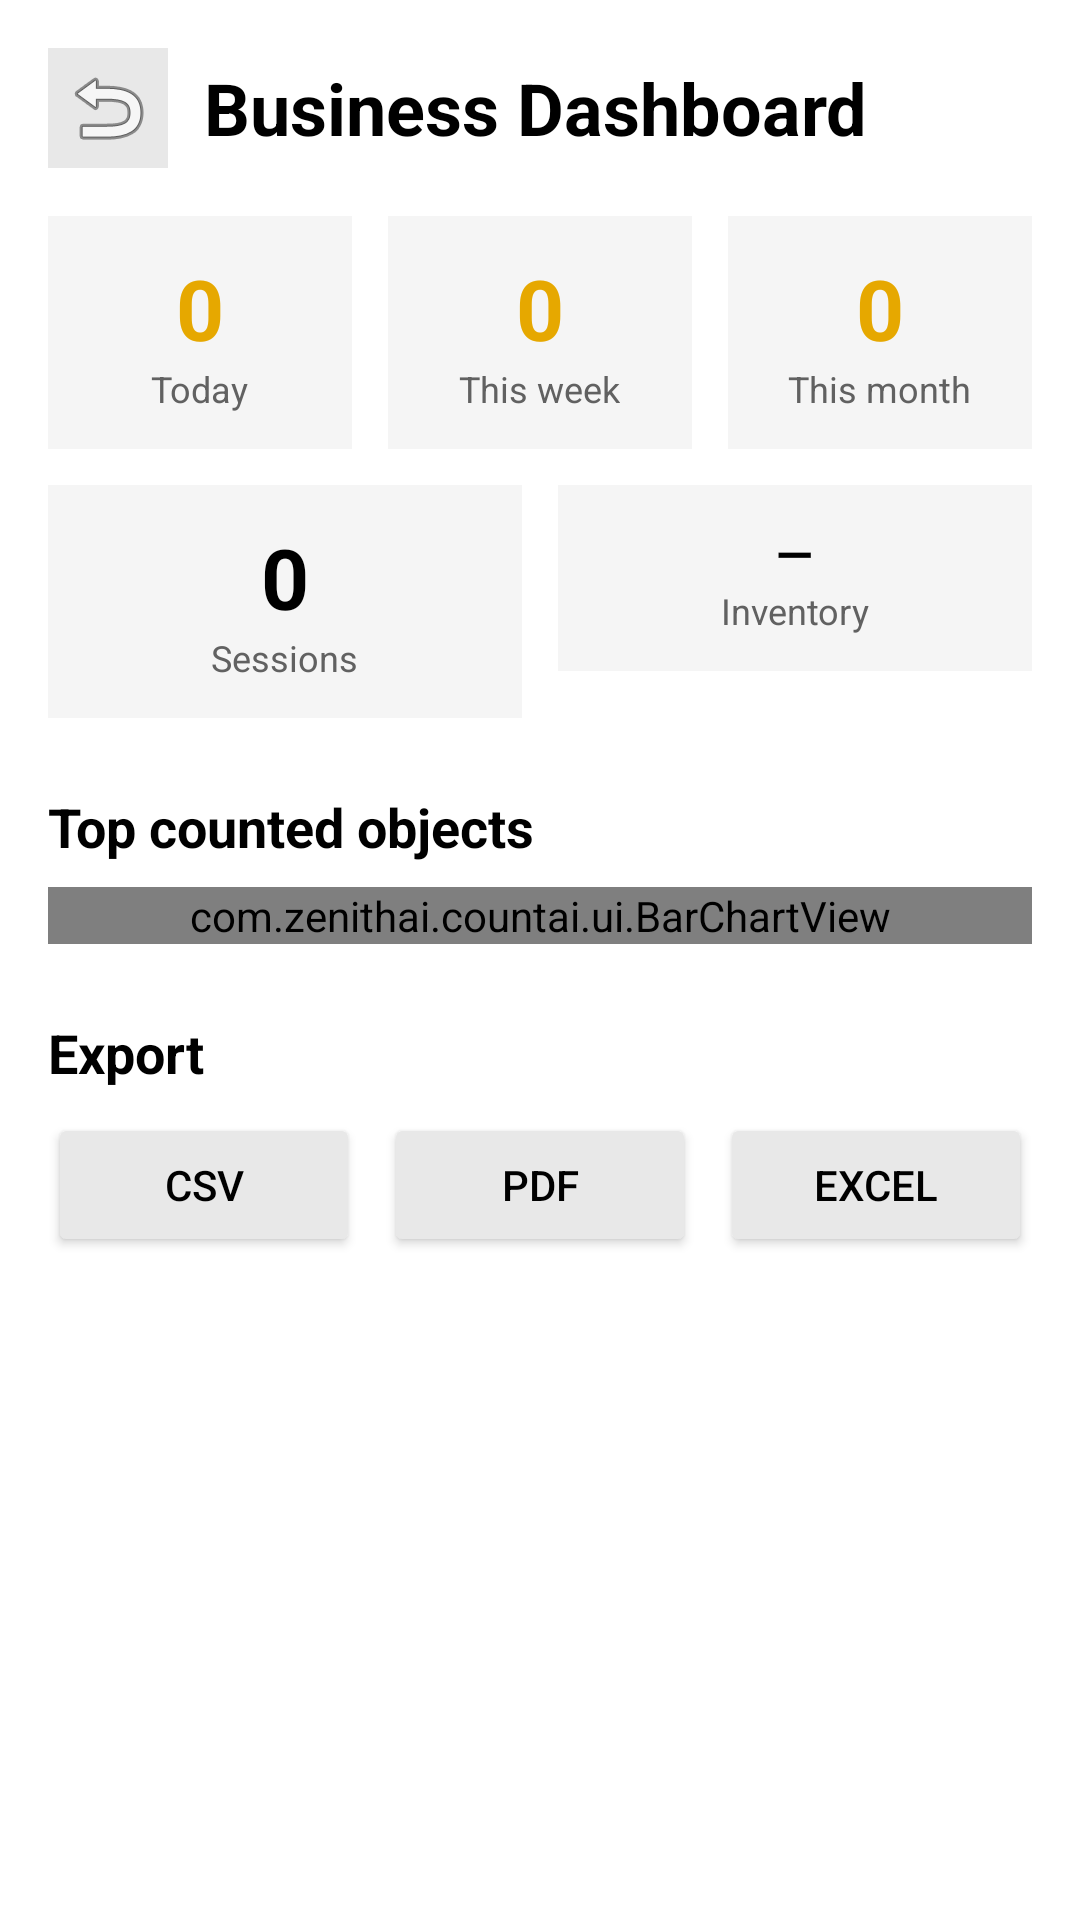

Icons on this 1080*1920 Android screen, each with the point to tap as (x=x, y=y):
Back: (x=108, y=108)
